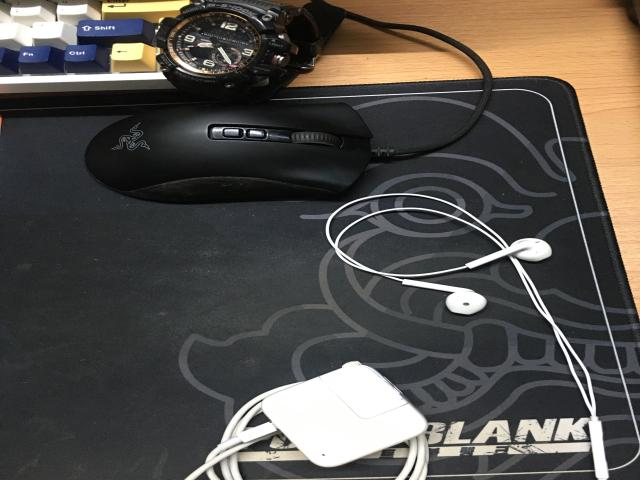Mouse: (85, 103, 372, 202), (0, 0, 198, 95)
Watch: (155, 0, 345, 103)
wire: (325, 193, 555, 325), (185, 362, 428, 480)
